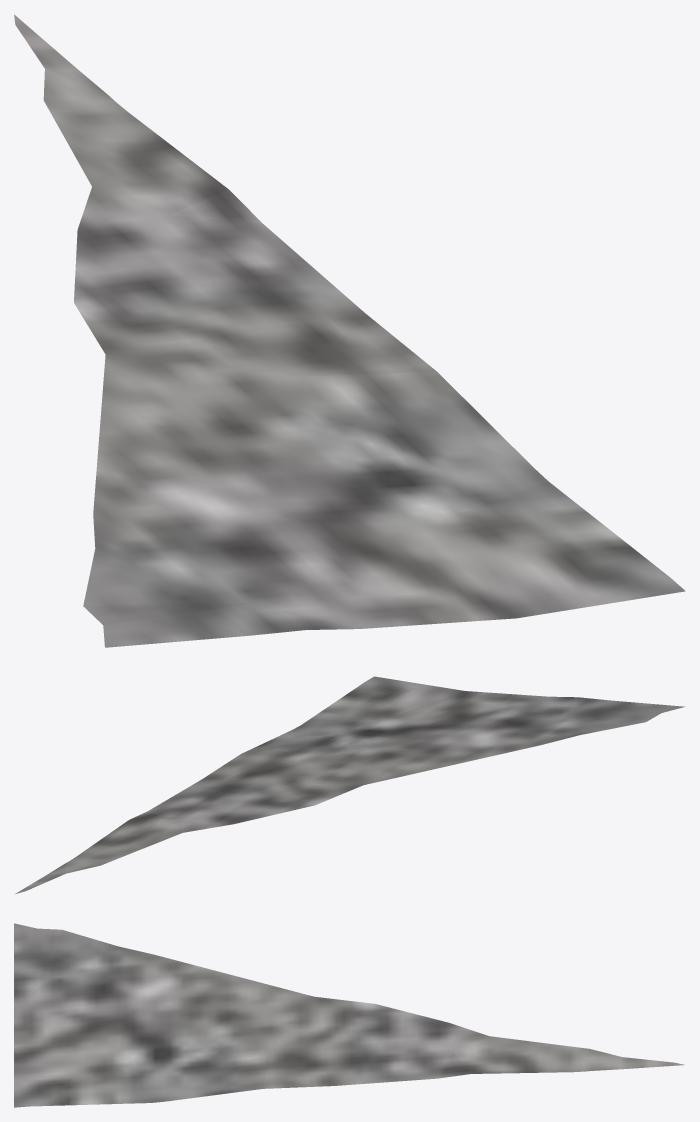
3 views of the same model, one above another, from view 1: azimuth 30°, elevation 25°; view 2: azimuth 150°, elevation 25°; view 3: azimuth 270°, elevation 25° (orthographic). The views are drawn at different scales.
Bounding box in the file's own units: 0.1476 × 0.0207 × 0.2956.
1 material, 1 textured.
